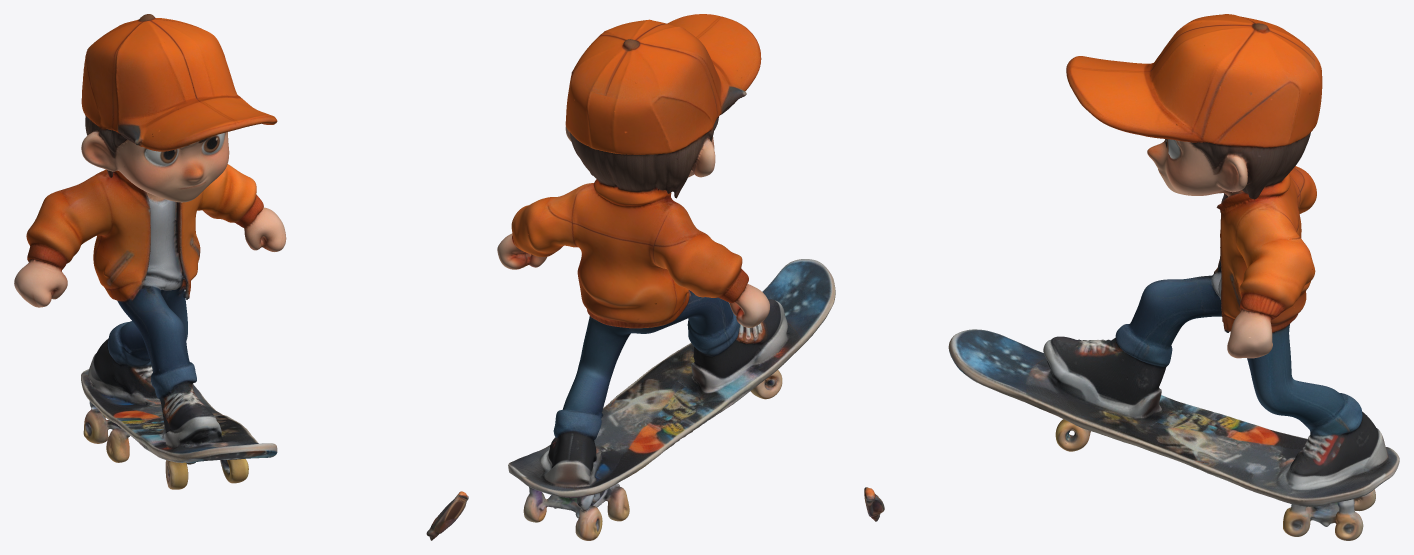
The model's file is player_game.glb.
3 renders of one model, left to right at view 1: azimuth 30°, elevation 25°; view 2: azimuth 150°, elevation 25°; view 3: azimuth 270°, elevation 25°, orthographic. The views are drawn at different scales.
Bounding box in the file's own units: 1.23 × 2 × 1.99.
1 material, 1 textured.
